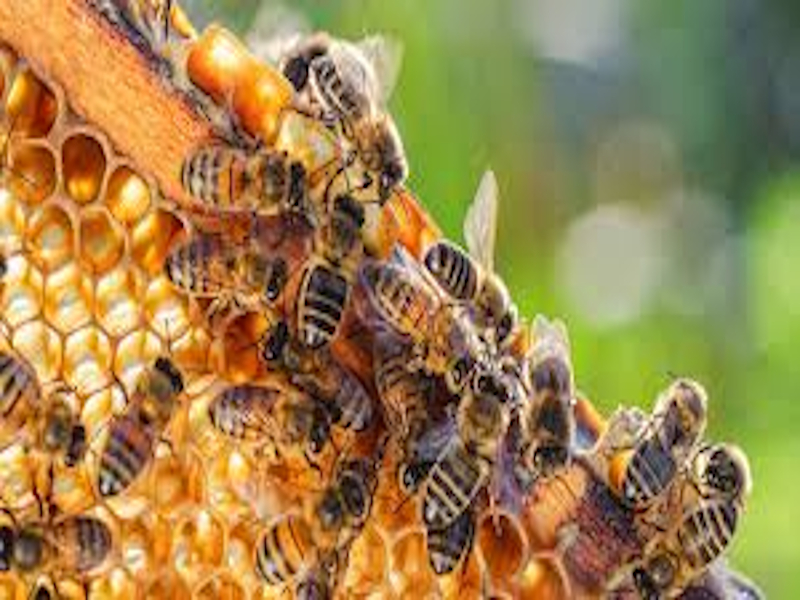abeja: (72, 327, 201, 510), (299, 36, 415, 209), (241, 446, 380, 590), (411, 217, 537, 363), (200, 365, 352, 472), (616, 365, 721, 504), (309, 191, 388, 357), (166, 149, 319, 233)
